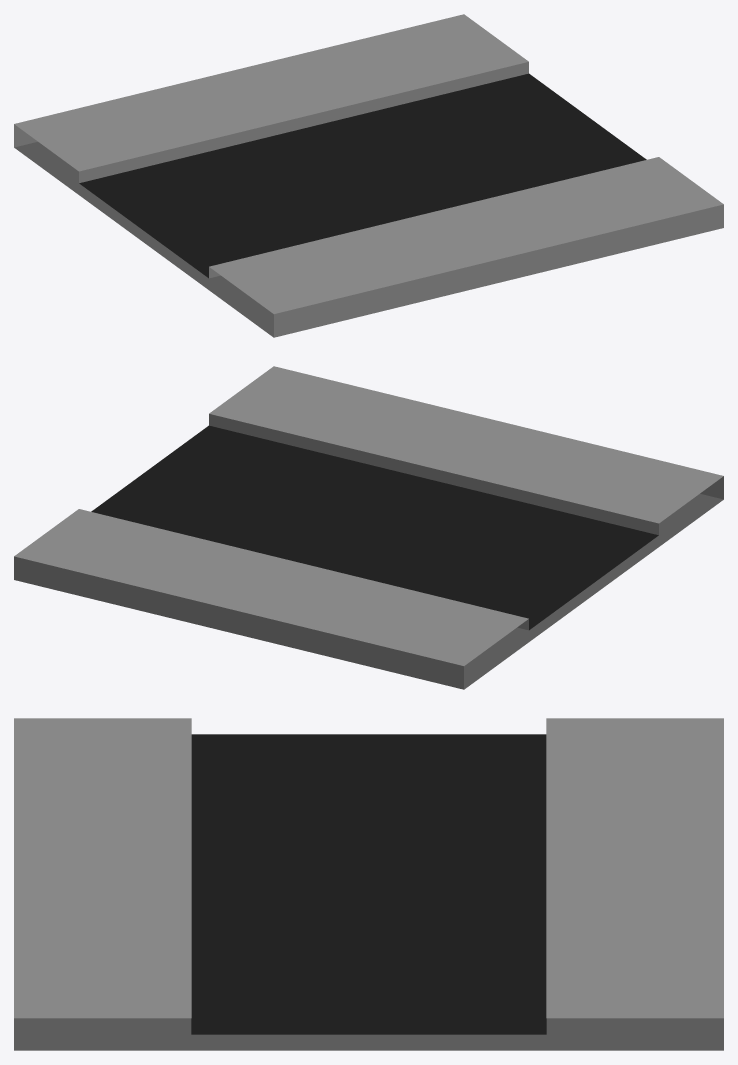
The model's file is Road01.fbx.
3 renders of one model, top to bottom at view 1: azimuth 30°, elevation 25°; view 2: azimuth 150°, elevation 25°; view 3: azimuth 270°, elevation 25°, orthographic. The views are drawn at different scales.
Parts seen in each view (by area): view 1: Road01; view 2: Road01; view 3: Road01.
Part boxes in pixels (x1,y1,x2,y2): Road01: (14, 14, 723, 337); Road01: (14, 366, 723, 689); Road01: (14, 718, 723, 1050).
Size of the model in its own units: 400 by 20 by 400.
